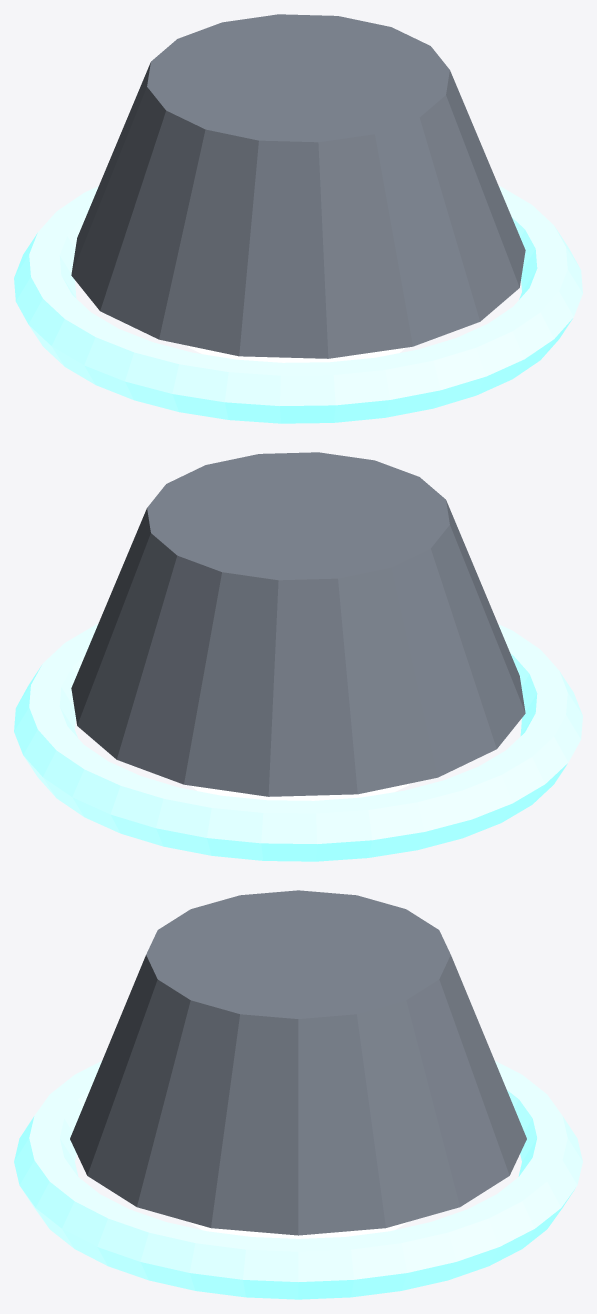
The model's file is thruster.glb.
3 views of the same model, one above another, from view 1: azimuth 30°, elevation 25°; view 2: azimuth 150°, elevation 25°; view 3: azimuth 270°, elevation 25° (orthographic).
Visible parts, largest first — view 1: Cone, Torus, Cylinder; view 2: Cone, Torus, Cylinder; view 3: Cone, Torus, Cylinder.
Boxes of the visible parts, x1,y1,x2,y2 form: Cone: (71, 14, 525, 358); Torus: (14, 186, 582, 423); Cylinder: (187, 345, 405, 362); Cone: (71, 452, 525, 796); Torus: (14, 624, 582, 861); Cylinder: (191, 783, 409, 800); Cone: (70, 890, 526, 1235); Torus: (14, 1061, 582, 1299); Cylinder: (189, 1222, 407, 1238).
Bounding box in the file's own units: 2.24 × 1.05 × 2.24.
